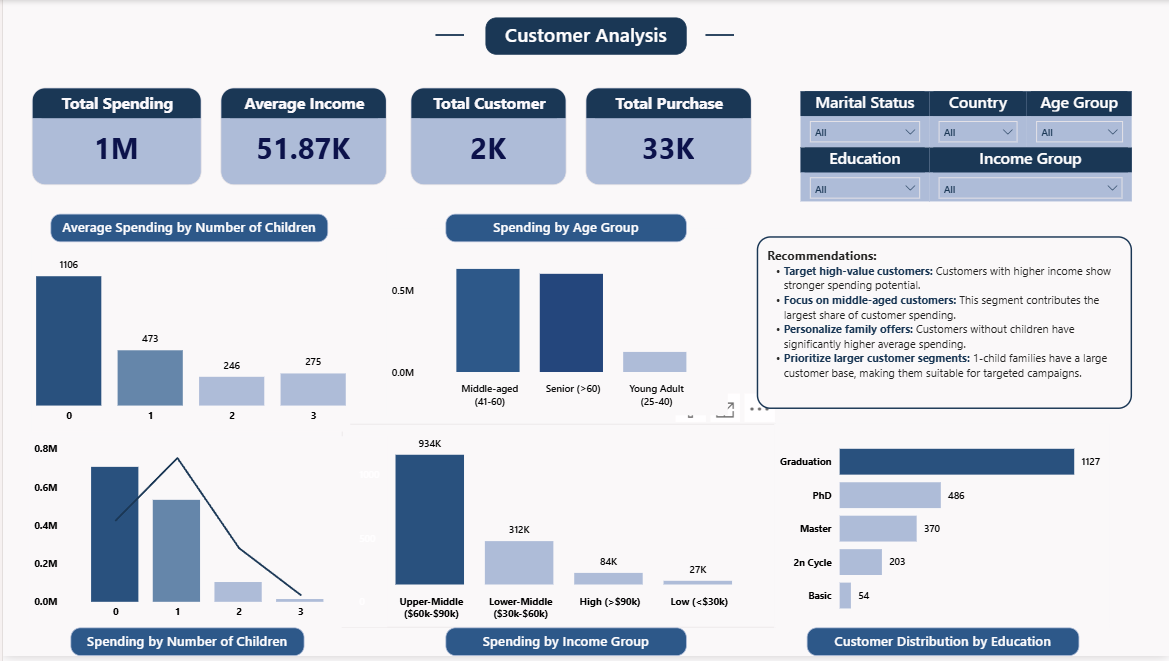

The page's visual inventory and layout, read from the dashboard file:
{"tool":"powerbi","page":{"name":"Customer Analysis","canvas":[1280,720],"ordinal":1},"visuals":[{"type":"cardVisual","title":"Total Customer","fields":{"Data":["_Measures.Total_Customers"]},"box":[447.3,96.1,171.5,107],"z":0},{"type":"cardVisual","title":"Average Income","fields":{"Data":["_Measures.Avg_Income"]},"box":[238.8,96.1,182.5,107],"z":1000},{"type":"cardVisual","title":"Total Spending","fields":{"Data":["_Measures.Total_Spending"]},"box":[31.6,96.1,186.6,107],"z":2000},{"type":"cardVisual","title":"Total Purchase","fields":{"Data":["_Measures.Total_Purchase"]},"box":[639.5,96.1,182.5,107],"z":3000},{"type":"clusteredColumnChart","title":"Total Spending by Product_Category","fields":{"Category":["Dim_Customer.income_group"],"Y":["_Measures.Total_Spending"]},"box":[371.9,465.2,476.2,223.7],"z":4000},{"type":"clusteredColumnChart","fields":{"Category":["Dim_Customer.age_group"],"Y":["_Measures.Total_Spending"]},"box":[421.3,251.1,374.6,204.5],"z":5000},{"type":"textbox","box":[529.5,19.2,220.9,41.2],"z":6000},{"type":"lineClusteredColumnComboChart","fields":{"Category":["Dim_Customer.Total_Children"],"Y":["_Measures.Total_Spending"],"Y2":["_Measures.Total_Customers"]},"box":[28.8,478.9,392.5,209.9],"z":7000},{"type":"columnChart","fields":{"Category":["Dim_Customer.Total_Children"],"Y":["_Measures.Average Spending per Customer"]},"box":[31.6,269,349.9,204.5],"z":8000},{"type":"barChart","fields":{"Category":["Dim_Customer.Education"],"Y":["_Measures.Total_Customers"]},"box":[846.7,465.2,367.8,223.7],"z":9000},{"type":"slicer","title":"Country","fields":{"Values":["Dim_Customer.Country"]},"box":[1016.8,100.2,107,61.7],"z":10000},{"type":"slicer","title":"Age Group","fields":{"Values":["Dim_Customer.age_group"]},"box":[1123.8,100.2,115.3,61.7],"z":11000},{"type":"slicer","title":"Income Group","fields":{"Values":["Dim_Customer.income_group"]},"box":[1016.8,161.9,222.3,59],"z":12000},{"type":"slicer","title":"Marital Status","fields":{"Values":["Dim_Customer.Marital_Status"]},"box":[875.5,100.2,141.3,61.7],"z":13000},{"type":"slicer","title":"Education","fields":{"Values":["Dim_Customer.Education"]},"box":[875.5,161.9,141.3,59],"z":14000},{"type":"textbox","box":[485.8,234.6,264.8,31.6],"z":15000},{"type":"textbox","box":[485.8,688.9,264.8,31.6],"z":16000},{"type":"textbox","box":[74.1,688.9,256.6,31.6],"z":17000},{"type":"textbox","box":[52.1,234.6,304.6,31.6],"z":18000},{"type":"textbox","box":[882.3,688.9,299.1,31.6],"z":19000},{"type":"shape","box":[474.8,12.3,31.6,52.1],"z":20000},{"type":"shape","box":[771.2,12.3,31.6,52.1],"z":21000},{"type":"textbox","box":[827.4,259.3,411.7,189.4],"z":22000}]}

Visuals, with their boxes in screenshot pixels (x1, y1, x2, y2), scaled from the page's 1280x720 canvas onto the 1169x661 screenshot:
"Total Customer" cardVisual: l=409, t=88, r=565, b=186
"Average Income" cardVisual: l=218, t=88, r=385, b=186
"Total Spending" cardVisual: l=29, t=88, r=199, b=186
"Total Purchase" cardVisual: l=584, t=88, r=751, b=186
"Total Spending by Product_Category" clusteredColumnChart: l=340, t=427, r=775, b=632
clusteredColumnChart - Dim_Customer.age_group x _Measures.Total_Spending: l=385, t=231, r=727, b=418
textbox: l=484, t=18, r=685, b=55
lineClusteredColumnComboChart - Dim_Customer.Total_Children x _Measures.Total_Spending: l=26, t=440, r=385, b=632
columnChart - Dim_Customer.Total_Children x _Measures.Average Spending per Customer: l=29, t=247, r=348, b=435
barChart - Dim_Customer.Education x _Measures.Total_Customers: l=773, t=427, r=1109, b=632
"Country" slicer: l=929, t=92, r=1026, b=149
"Age Group" slicer: l=1026, t=92, r=1132, b=149
"Income Group" slicer: l=929, t=149, r=1132, b=203
"Marital Status" slicer: l=800, t=92, r=929, b=149
"Education" slicer: l=800, t=149, r=929, b=203
textbox: l=444, t=215, r=686, b=244
textbox: l=444, t=632, r=686, b=660
textbox: l=68, t=632, r=302, b=660
textbox: l=48, t=215, r=326, b=244
textbox: l=806, t=632, r=1079, b=660
shape: l=434, t=11, r=462, b=59
shape: l=704, t=11, r=733, b=59
textbox: l=756, t=238, r=1132, b=412
